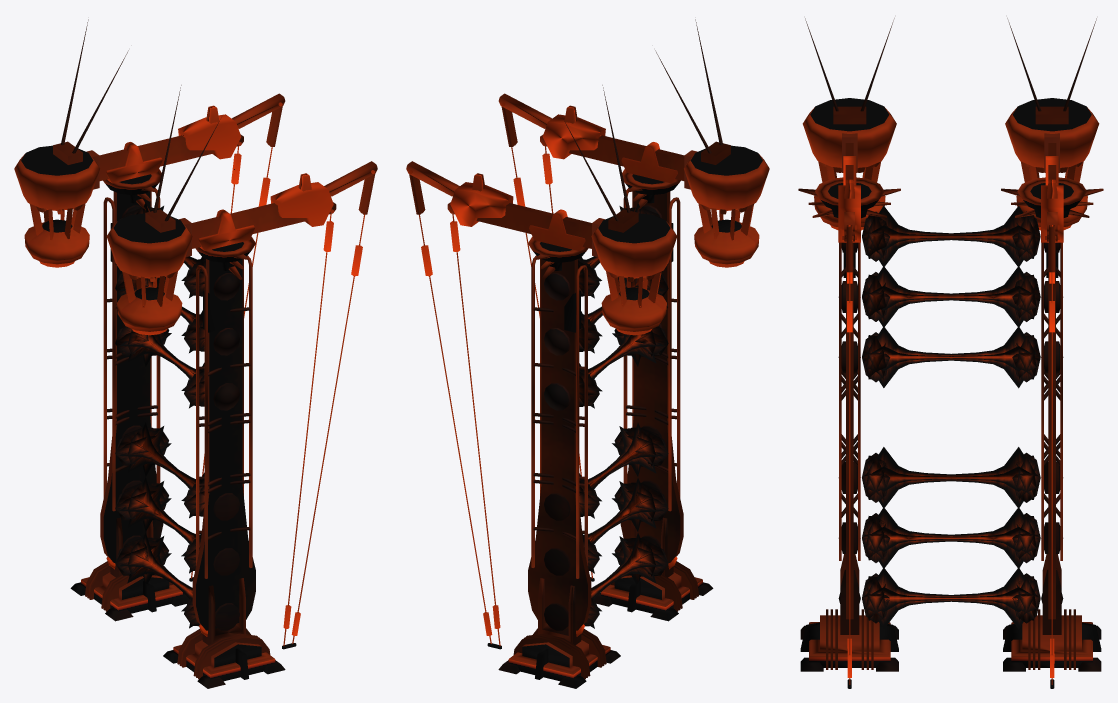
The model's file is Laser_Gate.obj.
3 renders of one model, left to right at view 1: azimuth 30°, elevation 25°; view 2: azimuth 150°, elevation 25°; view 3: azimuth 270°, elevation 25°, orthographic. The views are drawn at different scales.
Visible parts, largest first — view 1: (null); view 2: (null); view 3: (null).
Boxes of the visible parts, box(x1,y1,x2,y2) form: (null): box(14, 19, 377, 688); (null): box(406, 19, 769, 688); (null): box(798, 18, 1103, 688).
Bounding box in the file's own units: 119 × 247 × 109.
